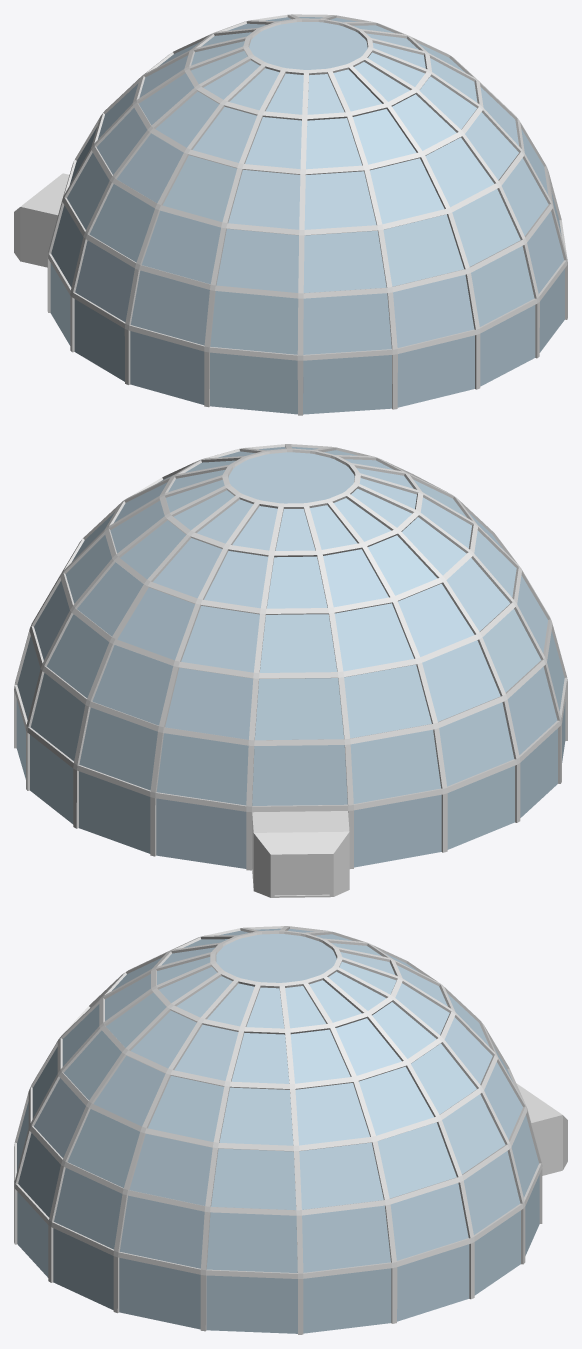
The model's file is dome.gltf.
The picture shows the model from 3 angles, top to bottom: view 1: azimuth 30°, elevation 25°; view 2: azimuth 150°, elevation 25°; view 3: azimuth 270°, elevation 25°; orthographic projection. The views are drawn at different scales.
Parts seen in each view (by area): view 1: Sphere.004; view 2: Sphere.004; view 3: Sphere.004.
Boxes of the visible parts, x1,y1,x2,y2 form: Sphere.004: [14, 14, 567, 415]; Sphere.004: [14, 444, 567, 897]; Sphere.004: [14, 926, 567, 1334].
Size of the model in its own units: 1.99 by 1.1 by 2.08.
